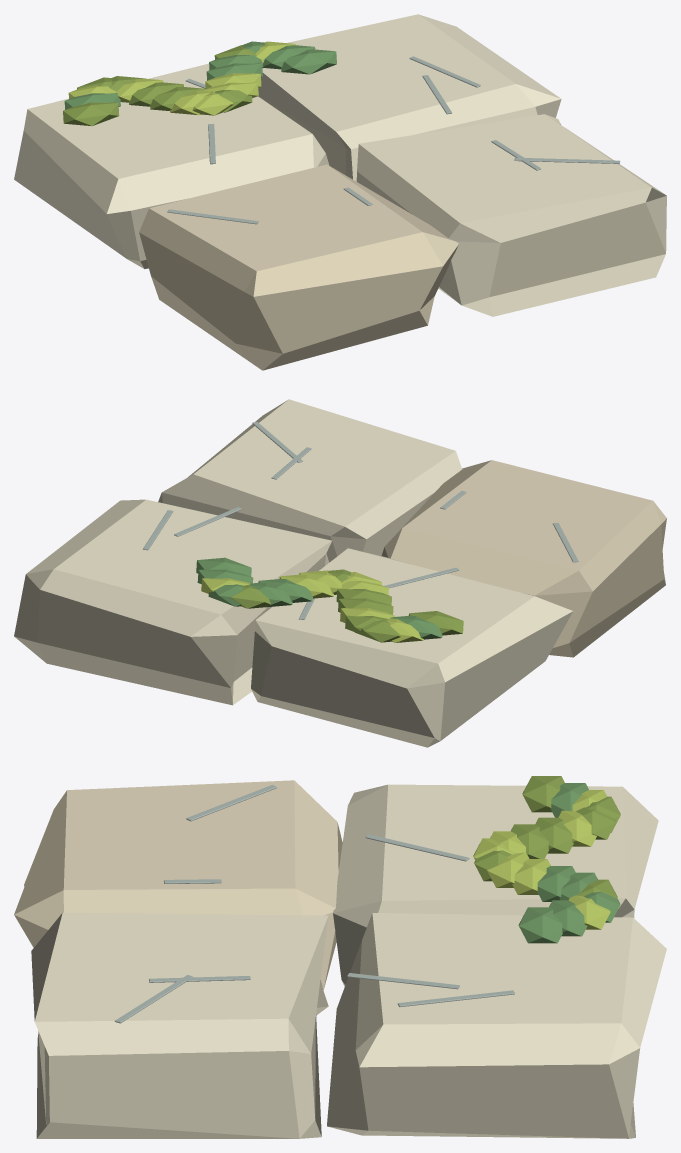
The model's file is slab_ivy_light.glb.
The picture shows the model from 3 angles, top to bottom: view 1: azimuth 30°, elevation 25°; view 2: azimuth 150°, elevation 25°; view 3: azimuth 270°, elevation 25°; orthographic projection. The views are drawn at different scales.
Visible parts, largest first — view 1: slab_ivy_light; view 2: slab_ivy_light; view 3: slab_ivy_light.
Boxes of the visible parts, bbox=[...] form: slab_ivy_light: bbox=[14, 14, 666, 370]; slab_ivy_light: bbox=[14, 399, 666, 747]; slab_ivy_light: bbox=[14, 776, 666, 1138].
Size of the model in its own units: 1.04 by 0.24 by 1.04.
